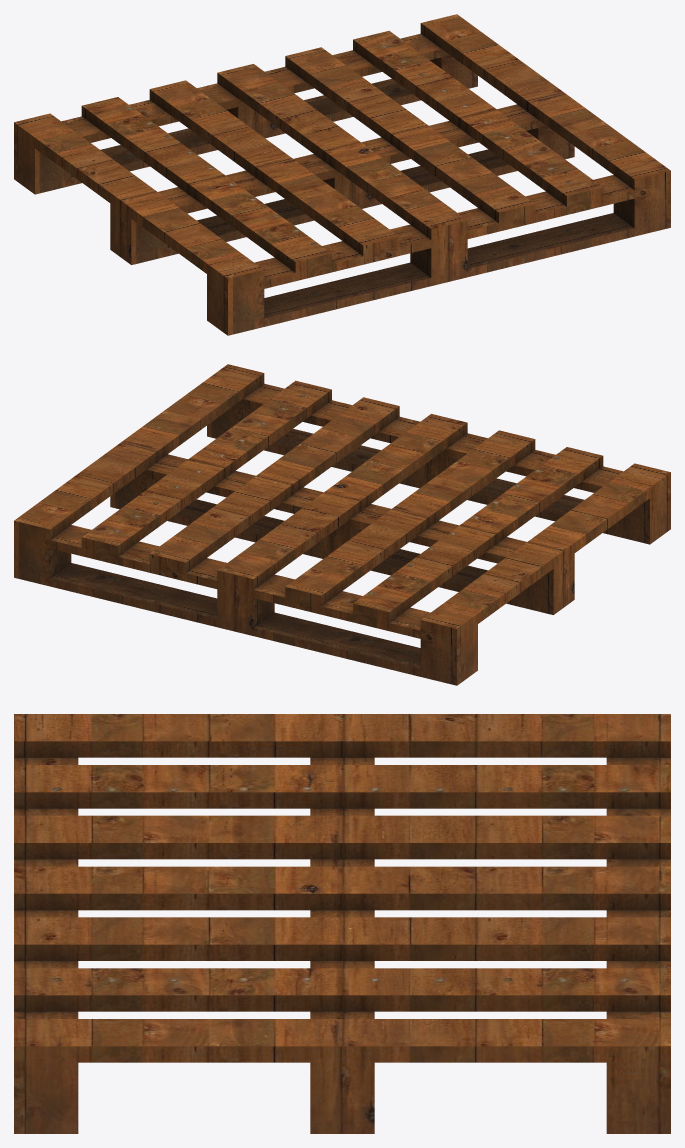
File: pallet.glb
The picture shows the model from 3 angles, top to bottom: view 1: azimuth 30°, elevation 25°; view 2: azimuth 150°, elevation 25°; view 3: azimuth 270°, elevation 25°; orthographic projection. The views are drawn at different scales.
Visible parts, largest first — view 1: pallet; view 2: pallet; view 3: pallet.
Part boxes in pixels (left/top/right/bottom): pallet: left=14, top=14, right=670, bottom=335; pallet: left=14, top=364, right=670, bottom=685; pallet: left=14, top=714, right=670, bottom=1133.
Bounding box in the file's own units: 1.22 × 0.15 × 1.02.
1 material, 1 textured.
